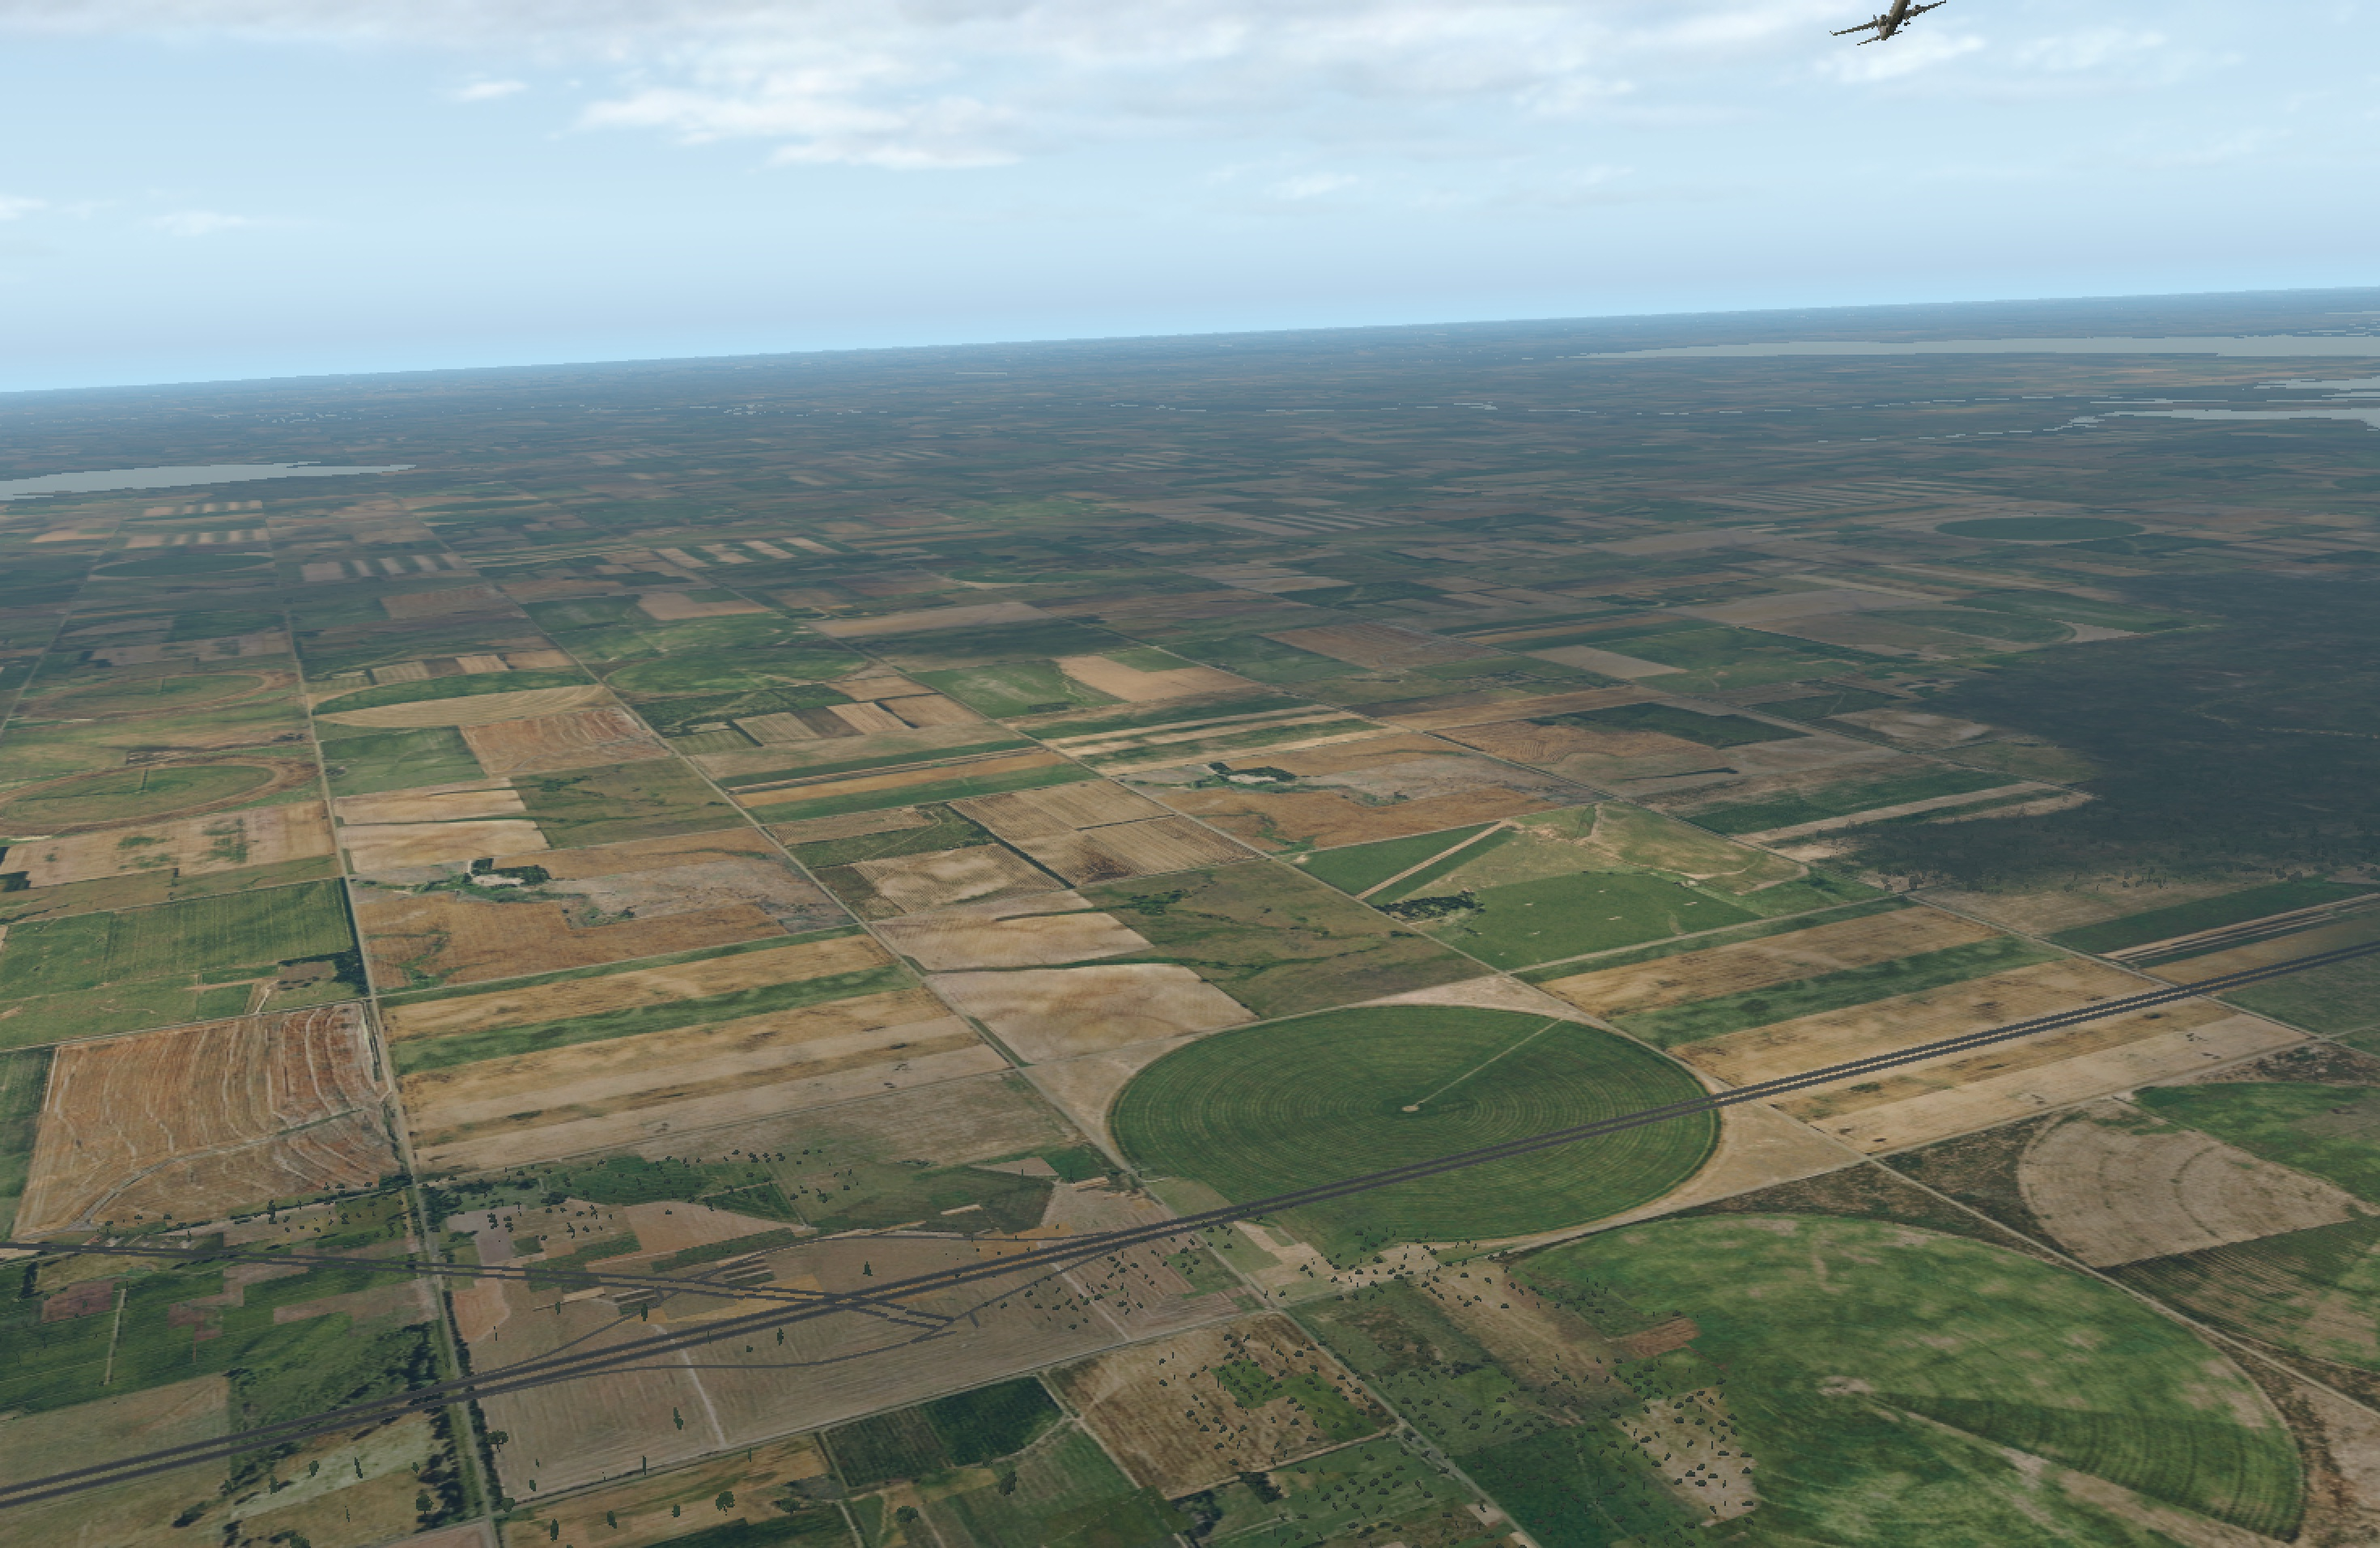aircraft: (1837, 0, 1955, 38)
